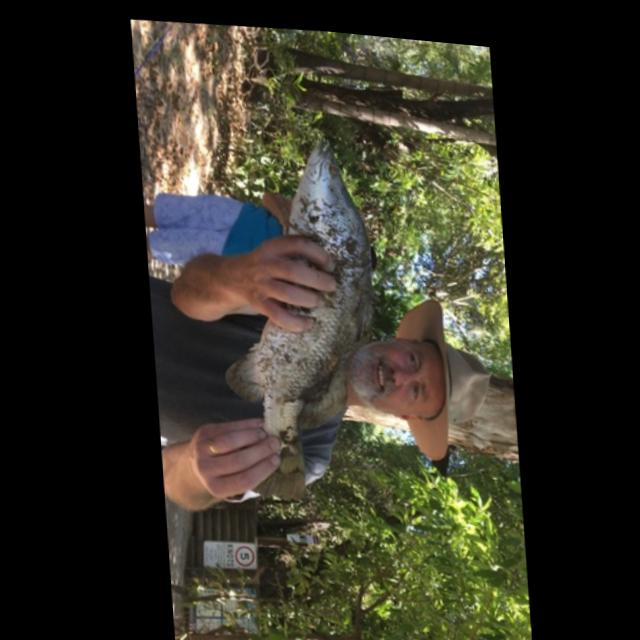Seabass: (206, 129, 394, 512)
